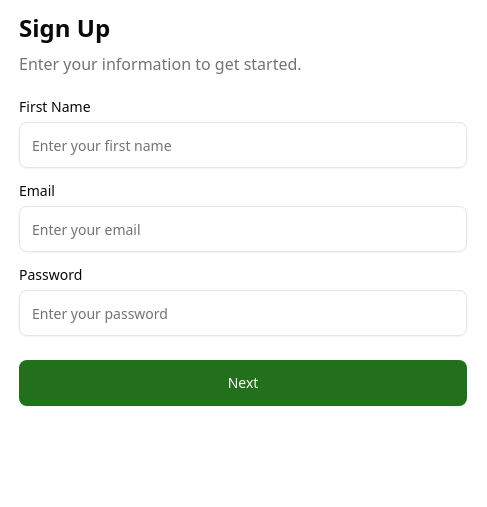
it: StepOne › shows validation error for invalid email and password
Type "not-an-email" into the field labelled "Email" at (243, 229), box [19,206,467,252]
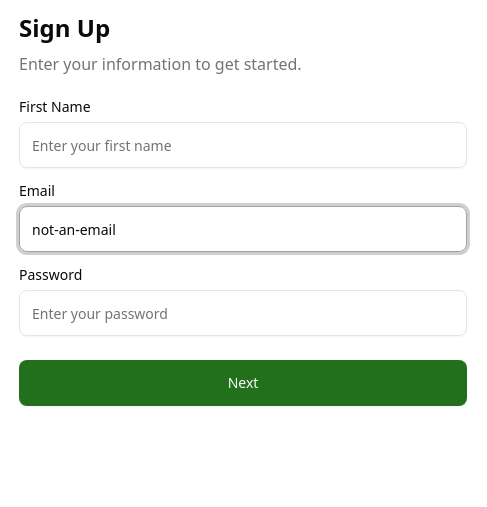
Type "123" into the password field labelled "Password" at (243, 313), box [19,290,467,336]
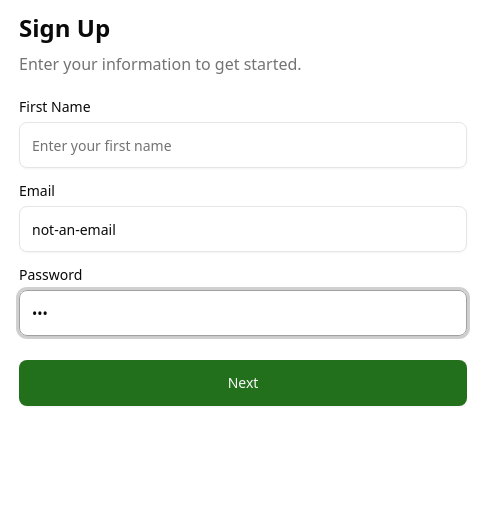
Click the button "Next" at (243, 383), box [19,360,467,406]
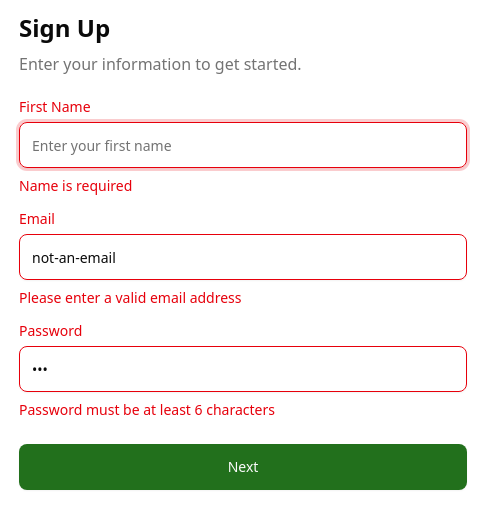
Expected: the text "Please enter a valid email address" is shown, [19,288,242,307]
Expected: the text "Password must be at least 6 characters" is shown, [19,400,275,419]
